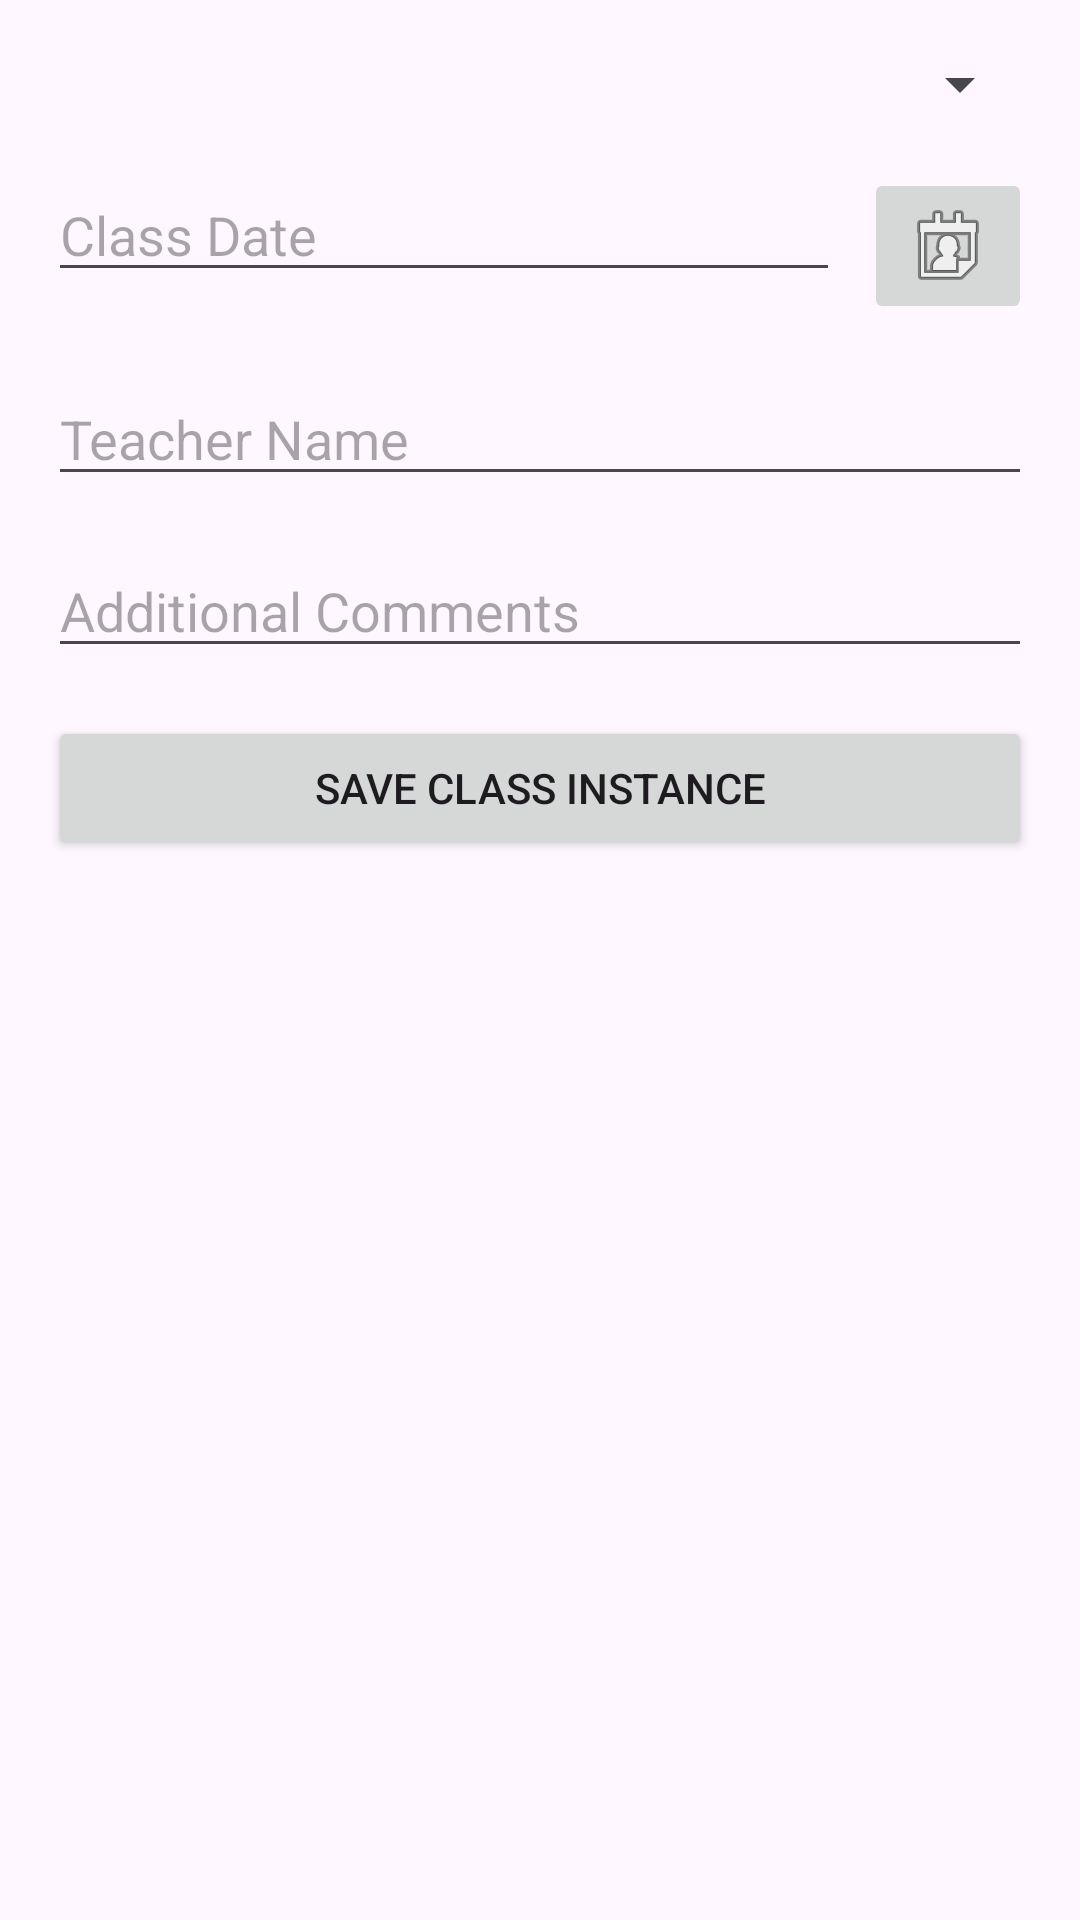

Screen size 1080 × 1920. Icon name, then its center in pixels as point (x, y):
calendar: point (948, 246)
